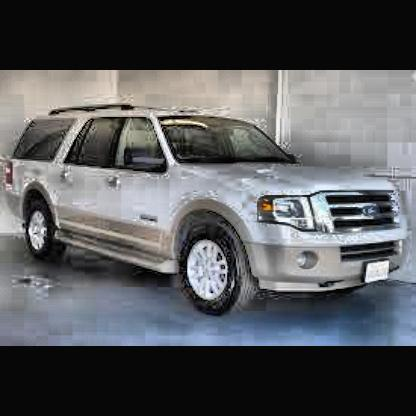Ford Expedition EL SUV 2009: (5, 103, 407, 319)
